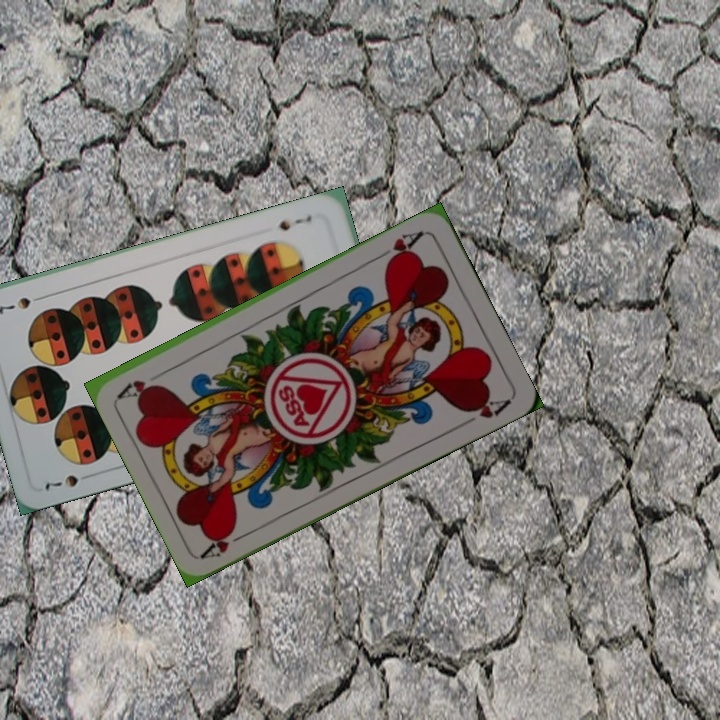HA: (198, 523, 254, 562), (374, 226, 427, 267)
S7: (41, 470, 81, 493), (275, 211, 315, 234)
